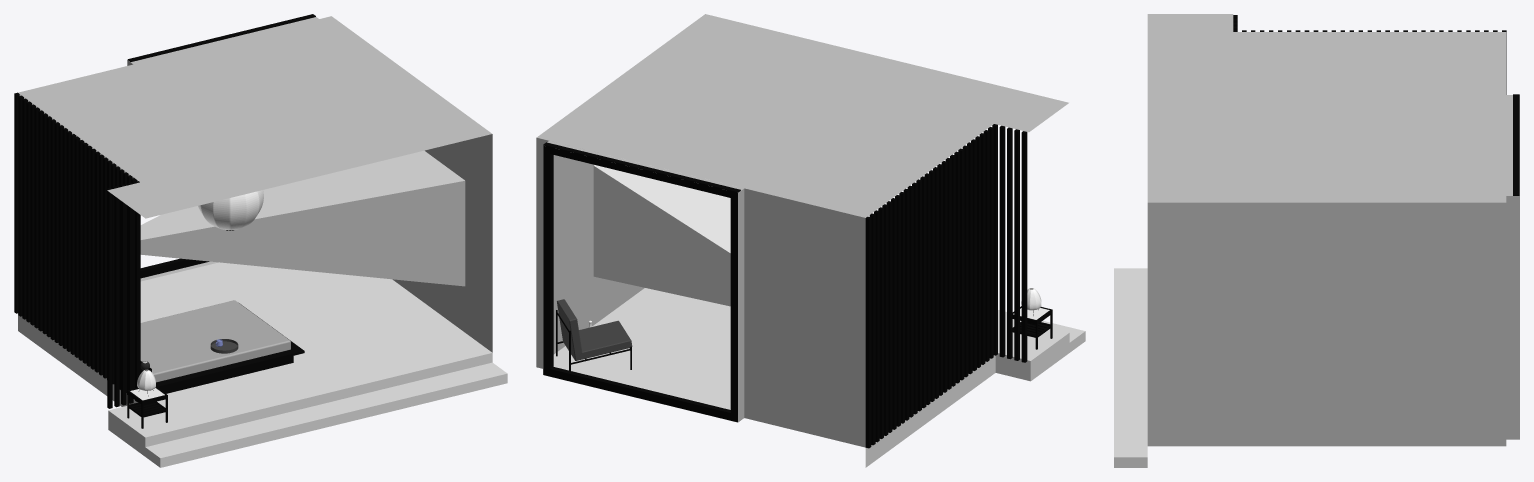
Rendered from bedroom.glb.
The picture shows the model from 3 angles, left to right: view 1: azimuth 30°, elevation 25°; view 2: azimuth 150°, elevation 25°; view 3: azimuth 270°, elevation 25°; orthographic projection. The views are drawn at different scales.
Visible parts, largest first — view 1: Cube, Cube.005, WallFrame, HologramBeam, BedMat, BedFrame, PendantShade, Cube.001, TableFrame; view 2: Cube, WallFrame, Cube.005, HologramBeam, Cube.001, KikiSofaSeat, KikiSofaBack; view 3: Cube, Cube.005, Cube.001, WallFrame.
Boxes of the visible parts, x1=… form: Cube: x1=18, y1=16, x2=492, y2=352; Cube.005: x1=18, y1=262, x2=507, y2=467; WallFrame: x1=14, y1=92, x2=140, y2=408; HologramBeam: x1=140, y1=150, x2=465, y2=286; BedMat: x1=140, y1=300, x2=290, y2=382; BedFrame: x1=140, y1=303, x2=304, y2=393; PendantShade: x1=198, y1=190, x2=263, y2=230; Cube.001: x1=127, y1=14, x2=315, y2=278; TableFrame: x1=128, y1=386, x2=166, y2=417; Cube: x1=536, y1=14, x2=1068, y2=447; WallFrame: x1=865, y1=124, x2=1027, y2=448; Cube.005: x1=553, y1=288, x2=1085, y2=467; HologramBeam: x1=593, y1=165, x2=730, y2=306; Cube.001: x1=543, y1=142, x2=740, y2=422; KikiSofaSeat: x1=576, y1=320, x2=632, y2=360; KikiSofaBack: x1=557, y1=299, x2=582, y2=360; Cube: x1=1147, y1=14, x2=1519, y2=446; Cube.005: x1=1114, y1=268, x2=1147, y2=467; Cube.001: x1=1513, y1=94, x2=1519, y2=195; WallFrame: x1=1233, y1=15, x2=1506, y2=94.
Size of the model in its own units: 4.98 by 3.28 by 4.52.
Materials: 15 (1 with a texture image).
